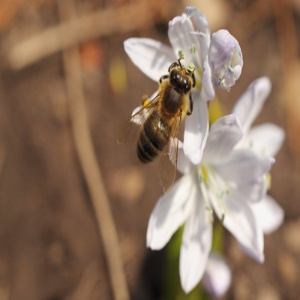bee: (136, 54, 196, 184)
